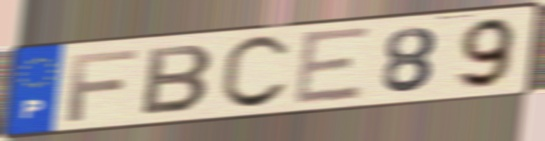8: (379, 25, 440, 96)
9: (453, 14, 519, 92)
B: (137, 43, 218, 118)
C: (216, 33, 294, 113)
E: (291, 24, 374, 109)
F: (64, 47, 141, 124)
